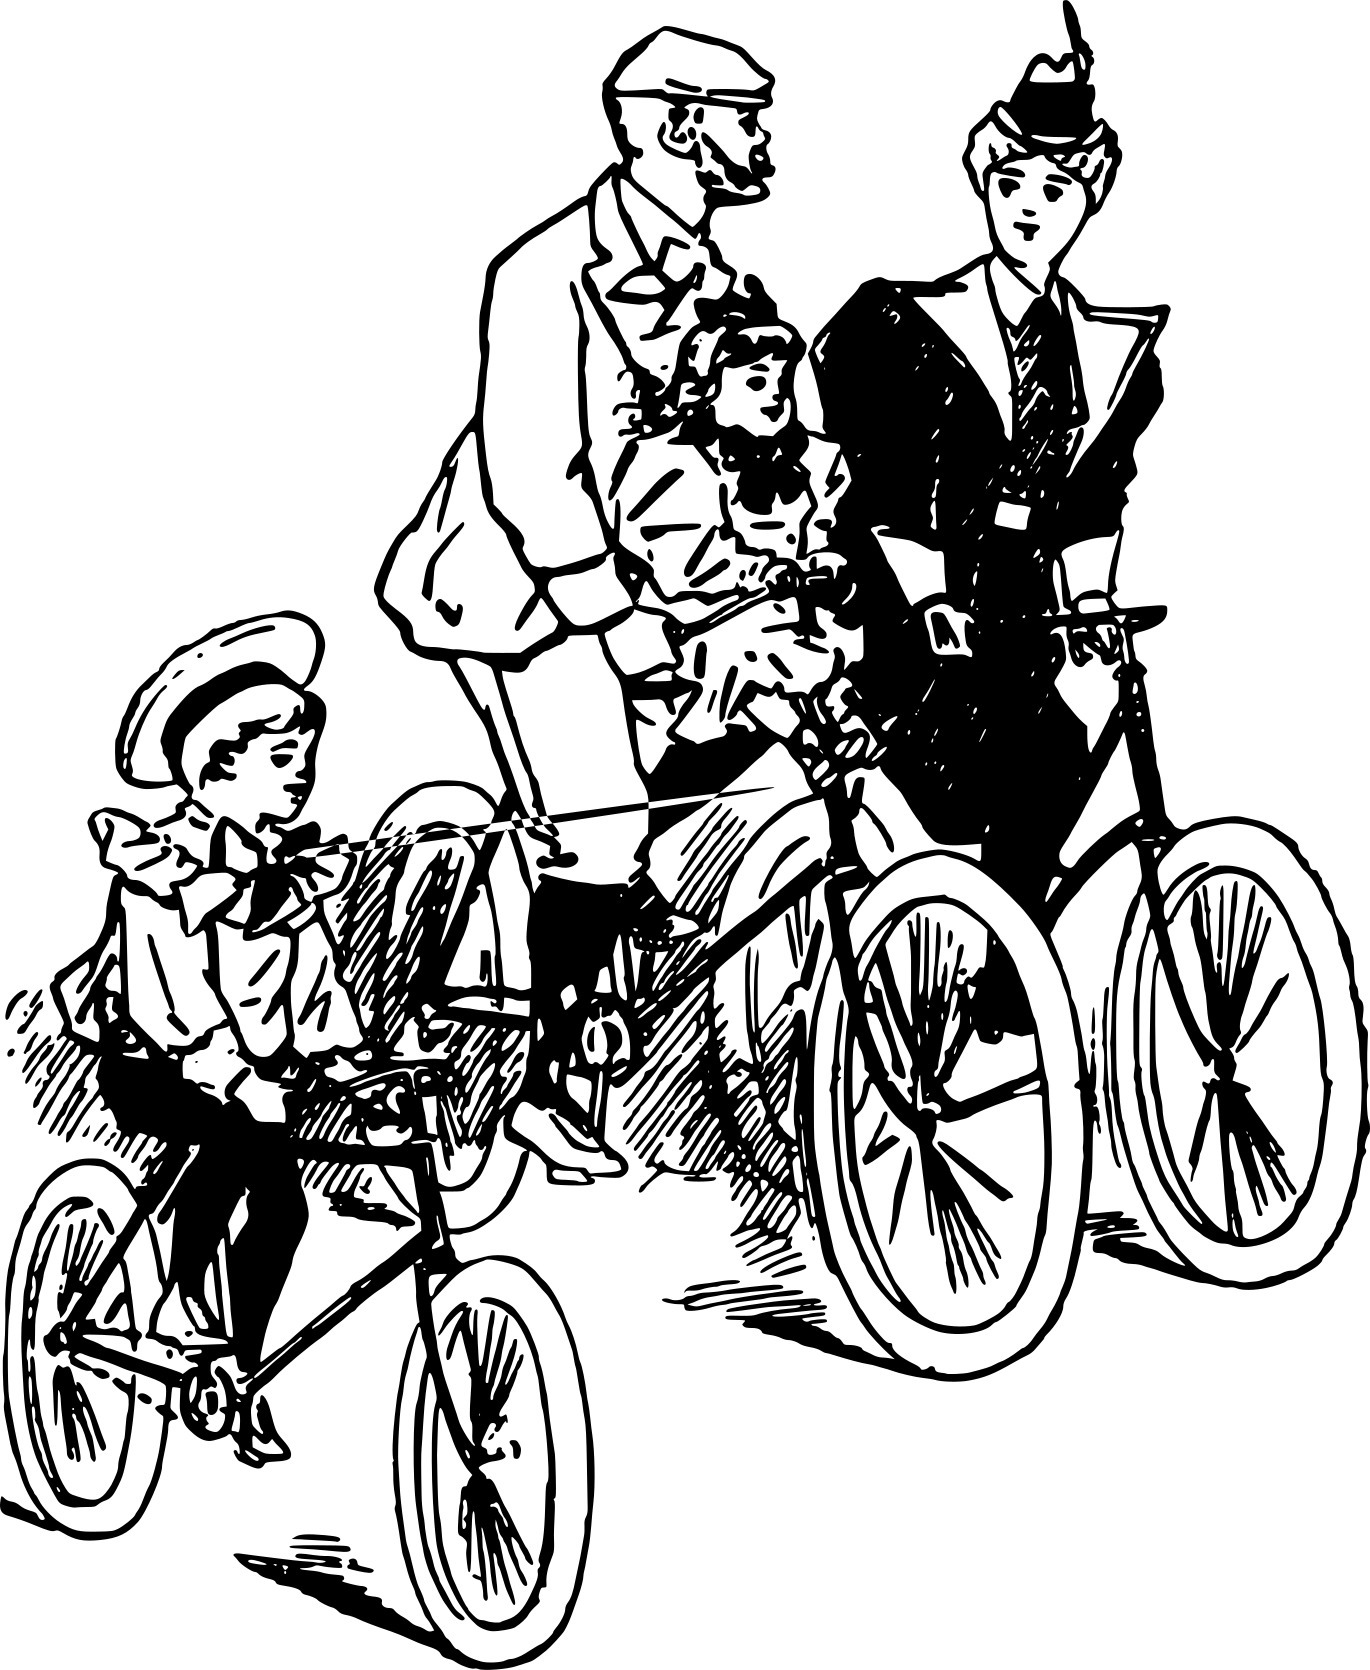bicycle: (348, 672, 1083, 1381), (8, 1055, 590, 1655), (888, 592, 1361, 1277)
person: (366, 19, 859, 1175), (815, 37, 1168, 868), (94, 595, 368, 1441), (626, 294, 883, 772)
